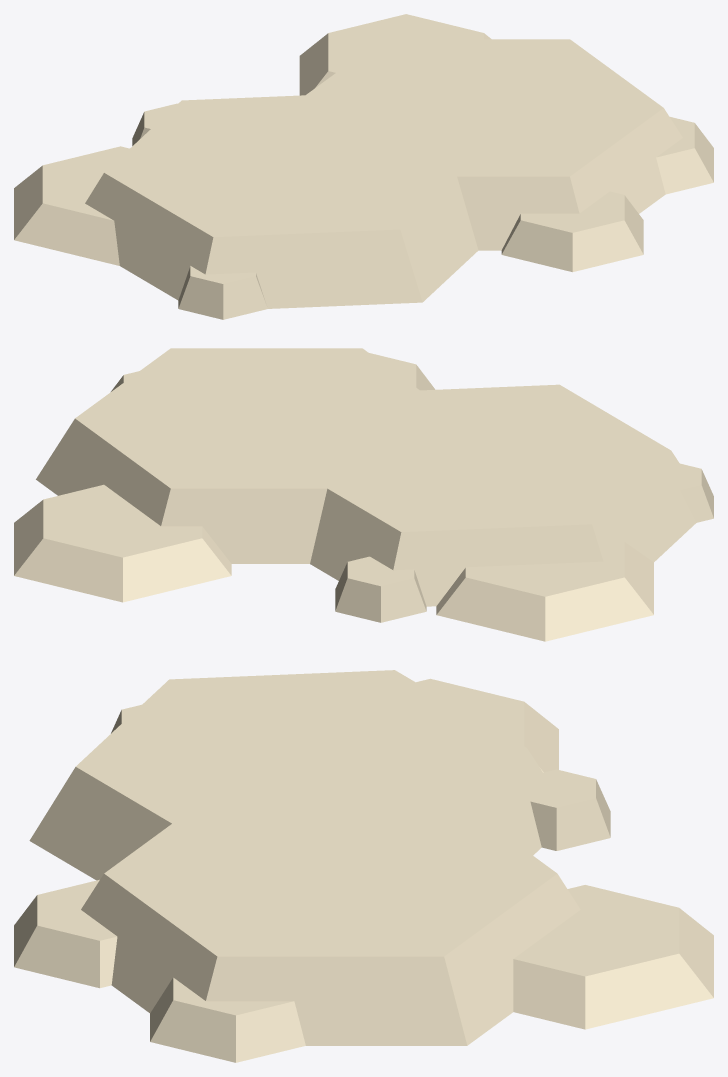
3 renders of one model, top to bottom at view 1: azimuth 30°, elevation 25°; view 2: azimuth 150°, elevation 25°; view 3: azimuth 270°, elevation 25°, orthographic. The views are drawn at different scales.
Parts seen in each view (by area): view 1: rockFlat; view 2: rockFlat; view 3: rockFlat.
Boxes of the visible parts, x1,y1,x2,y2 form: rockFlat: (14,14,713,319); rockFlat: (14,348,713,641); rockFlat: (14,670,713,1062).
Size of the model in its own units: 1.79 by 0.165 by 1.45.
